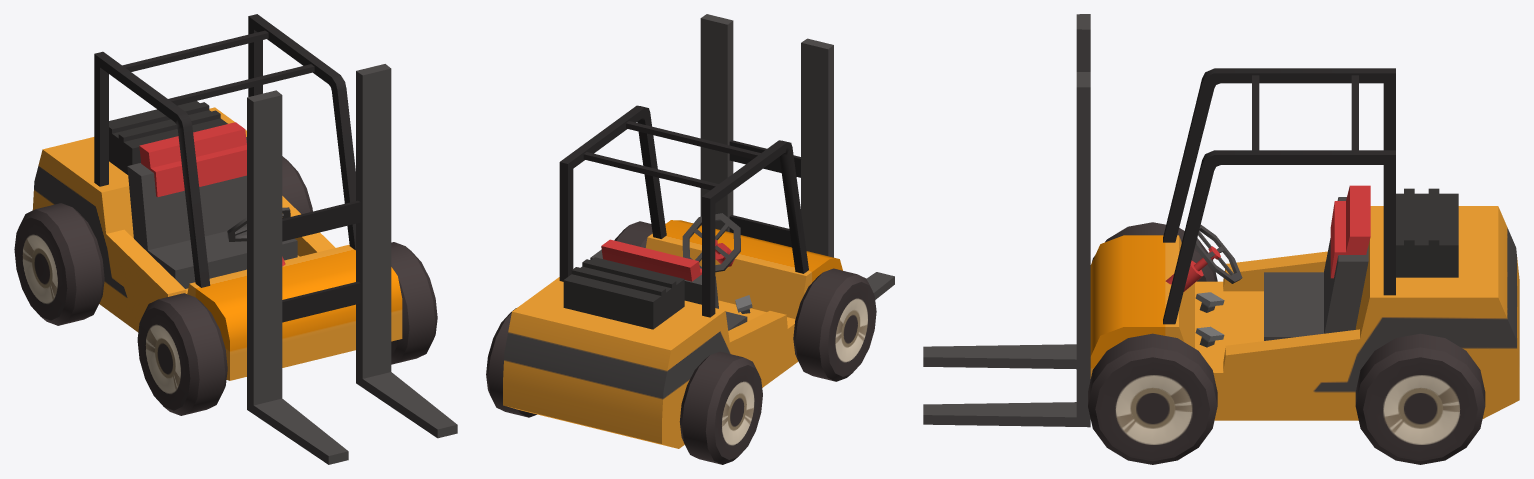
Rendered from Forklift.fbx.
3 views of the same model, side by side, from view 1: azimuth 30°, elevation 25°; view 2: azimuth 150°, elevation 25°; view 3: azimuth 270°, elevation 25° (orthographic). The views are drawn at different scales.
Visible parts, largest first — view 1: forklift_, forklift_1, forklift_001, forklift_003, forklift_wheel_002, forklift_wheel_001, forklift_wheel_000, forklift_wheel_003; view 2: forklift_1, forklift_, forklift_003, forklift_001, forklift_wheel_002, forklift_wheel_001, forklift_wheel_003, forklift_002, forklift_wheel_000, forklift_004; view 3: forklift_1, forklift_001, forklift_003, forklift_wheel_003, forklift_wheel_000, forklift_, forklift_004, forklift_002, forklift_wheel_001.
Part boxes in pixels (bbox=[...]): forklift_: bbox=[247, 64, 457, 464]; forklift_1: bbox=[32, 107, 402, 380]; forklift_001: bbox=[109, 101, 297, 288]; forklift_003: bbox=[94, 14, 355, 287]; forklift_wheel_002: bbox=[14, 203, 104, 325]; forklift_wheel_001: bbox=[137, 293, 227, 415]; forklift_wheel_000: bbox=[391, 242, 437, 364]; forklift_wheel_003: bbox=[282, 156, 312, 214]; forklift_1: bbox=[503, 220, 842, 448]; forklift_: bbox=[700, 14, 894, 299]; forklift_003: bbox=[559, 105, 808, 317]; forklift_001: bbox=[563, 239, 747, 330]; forklift_wheel_002: bbox=[679, 351, 762, 464]; forklift_wheel_001: bbox=[793, 268, 876, 381]; forklift_wheel_003: bbox=[486, 308, 536, 417]; forklift_002: bbox=[682, 213, 740, 272]; forklift_wheel_000: bbox=[614, 221, 652, 247]; forklift_004: bbox=[715, 243, 752, 313]; forklift_1: bbox=[1090, 206, 1519, 420]; forklift_001: bbox=[1264, 185, 1458, 340]; forklift_003: bbox=[1163, 68, 1395, 324]; forklift_wheel_003: bbox=[1355, 333, 1485, 464]; forklift_wheel_000: bbox=[1088, 333, 1217, 464]; forklift_: bbox=[923, 14, 1090, 427]; forklift_004: bbox=[1165, 252, 1224, 347]; forklift_002: bbox=[1195, 224, 1242, 283]; forklift_wheel_001: bbox=[1092, 222, 1217, 281].
Size of the model in its own units: 31.93 by 39.87 by 61.29.
Materials: 1 (1 with a texture image).
